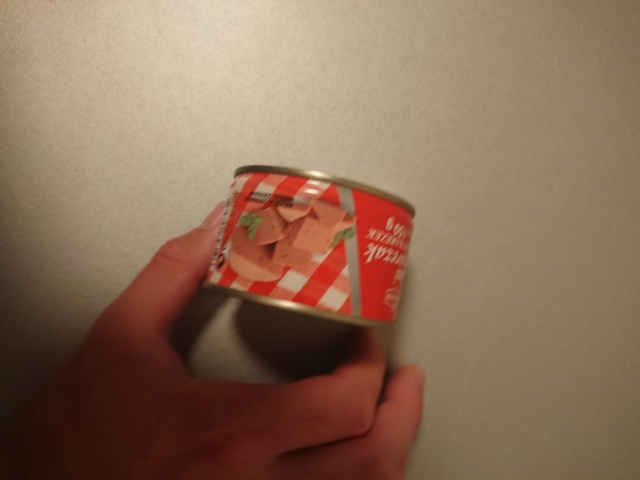Podravka Luncheon Meat 150g: (197, 160, 419, 332)
